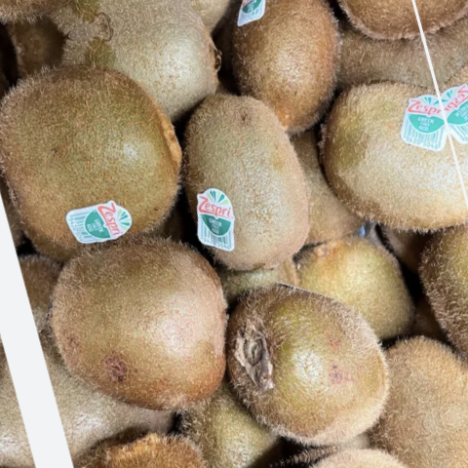kiwi: (26, 194, 268, 439), (0, 37, 219, 286), (180, 260, 429, 468), (156, 68, 348, 305), (300, 45, 468, 261)
